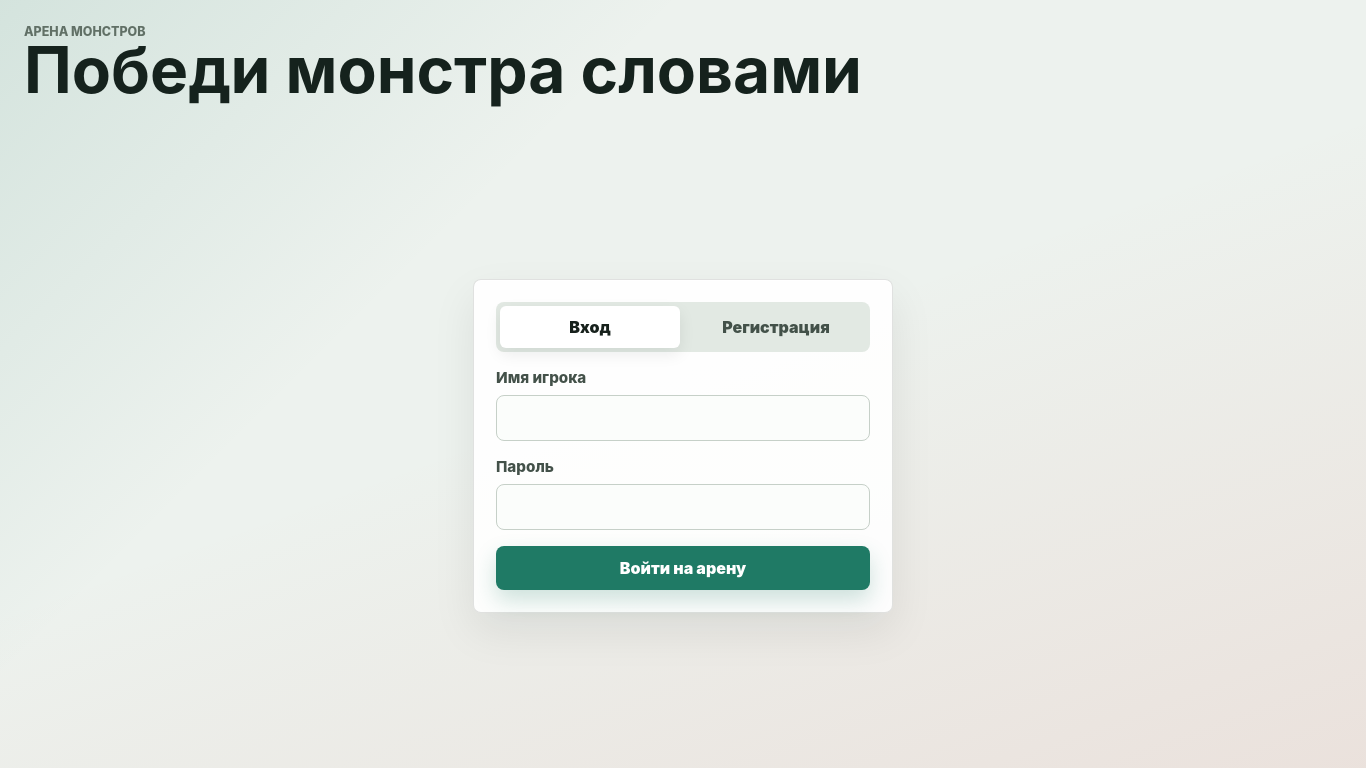
Test: App API contract behavior › maps rate limit errors with retry-after seconds
The width and height of the screenshot is (1366, 768).
Step 1. Type "player" into the field named "username" → x=683, y=418, box [496,395,870,441]
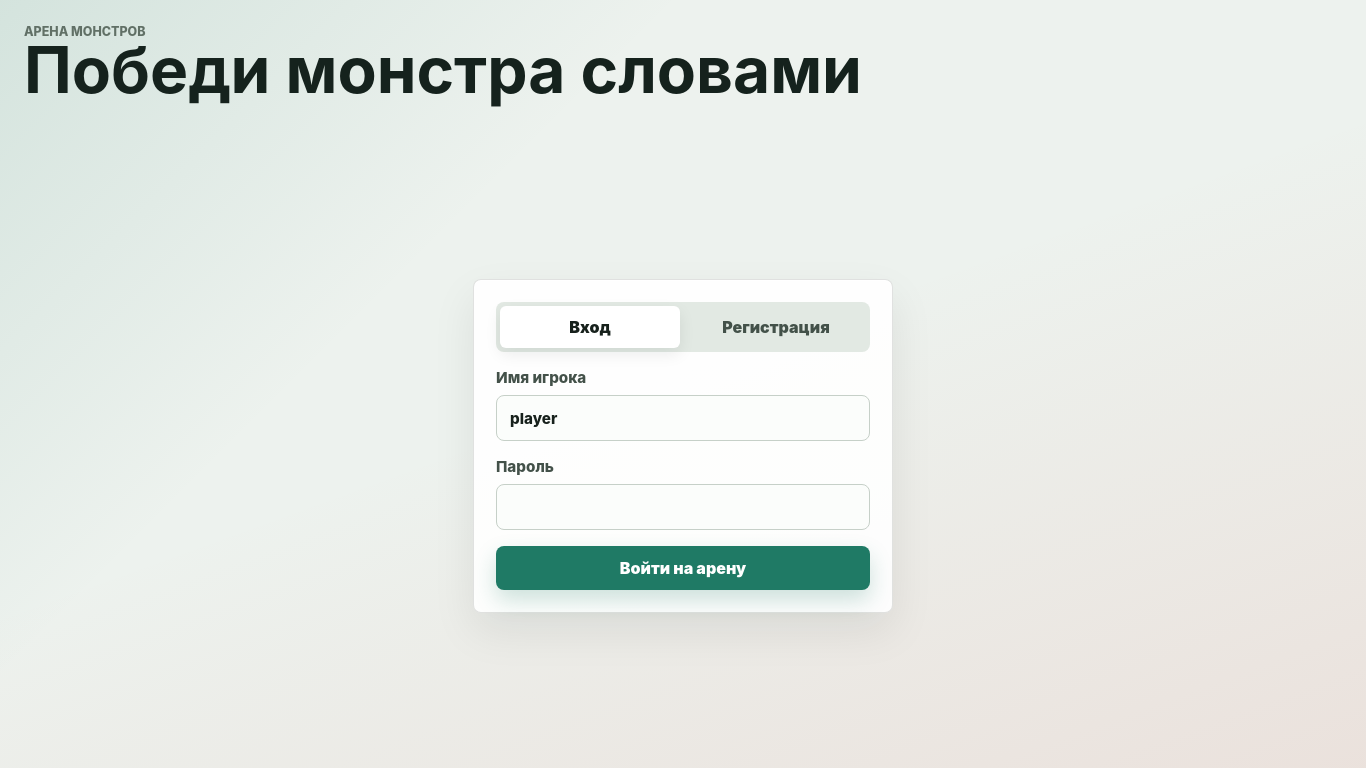
Step 2. Type "secret123" into the password field named "password" → x=683, y=507, box [496,484,870,530]
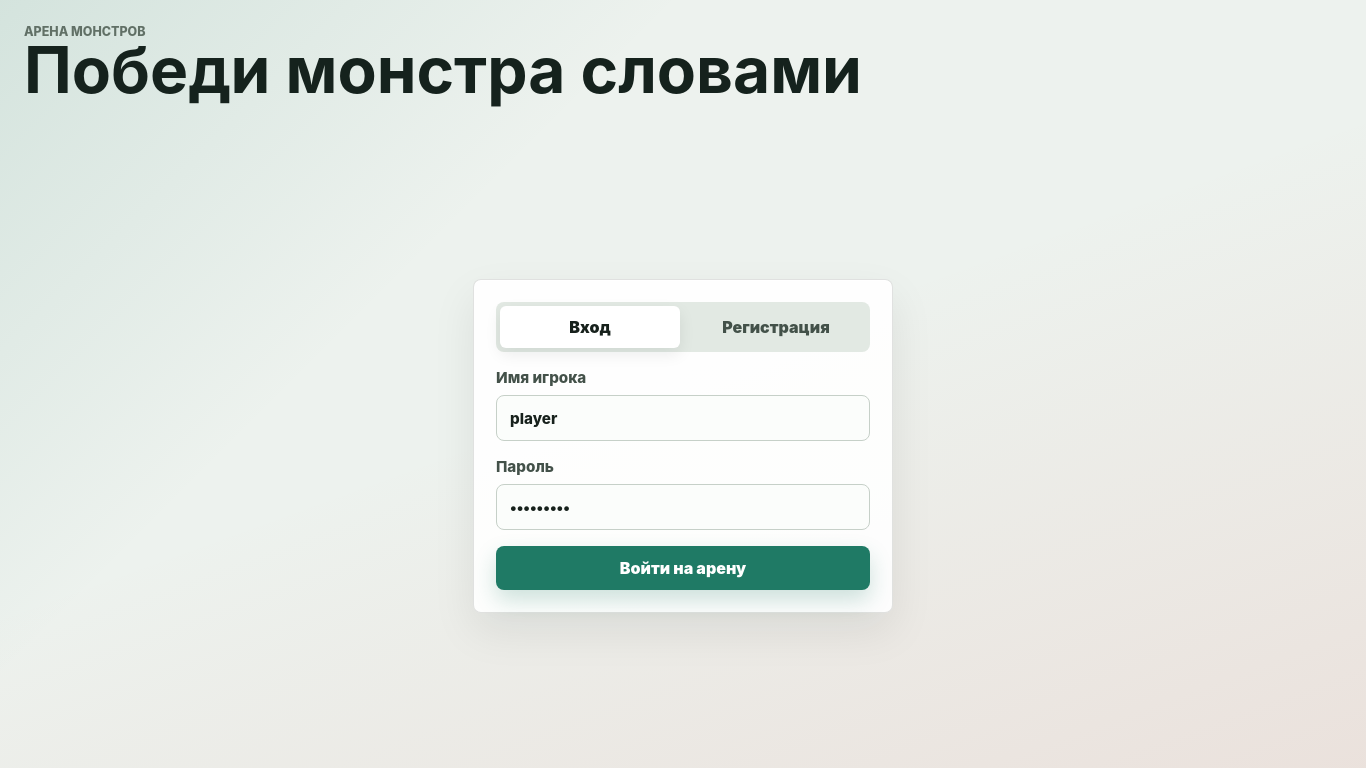
Step 3. Submit the form with class "auth-panel", box [473,279,893,613]
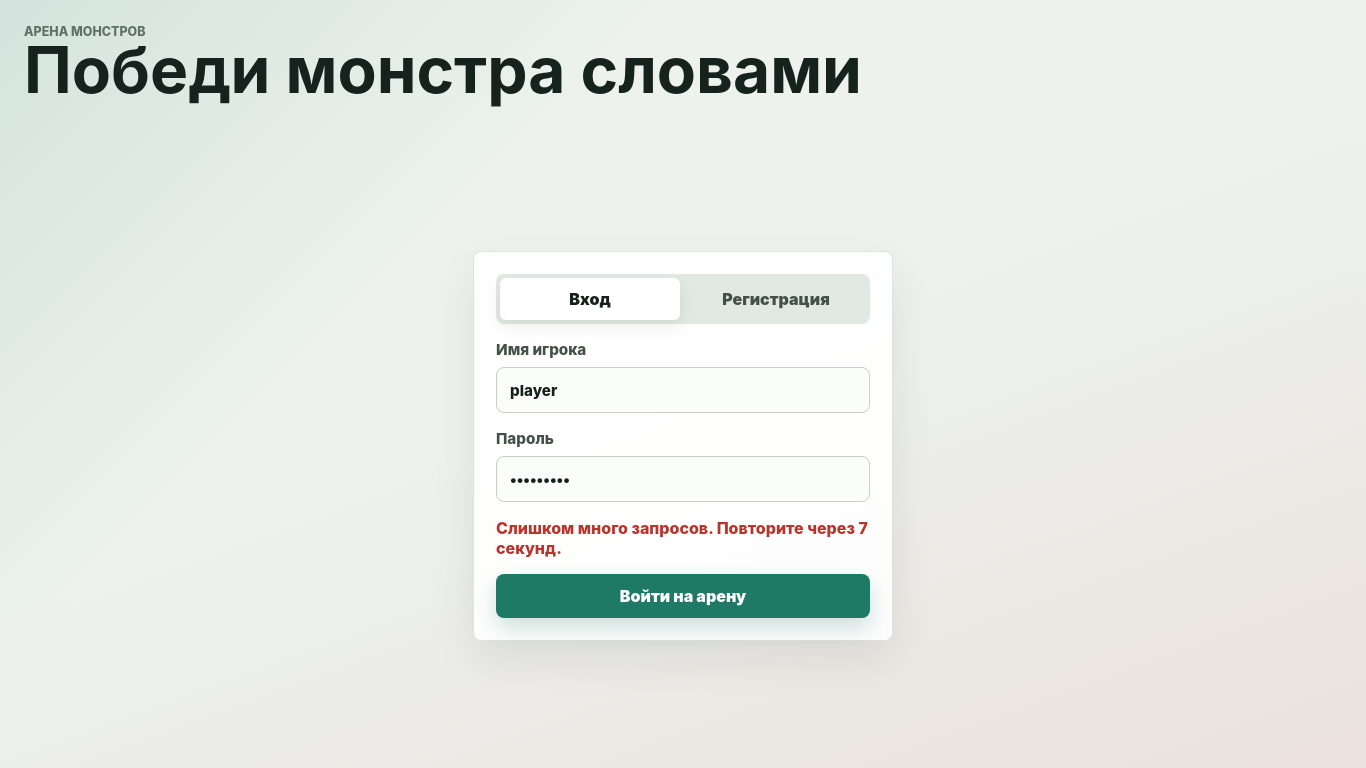
Check: the text "Слишком много запросов. Повторите через 7 секунд." is shown, box [496,518,870,558]
